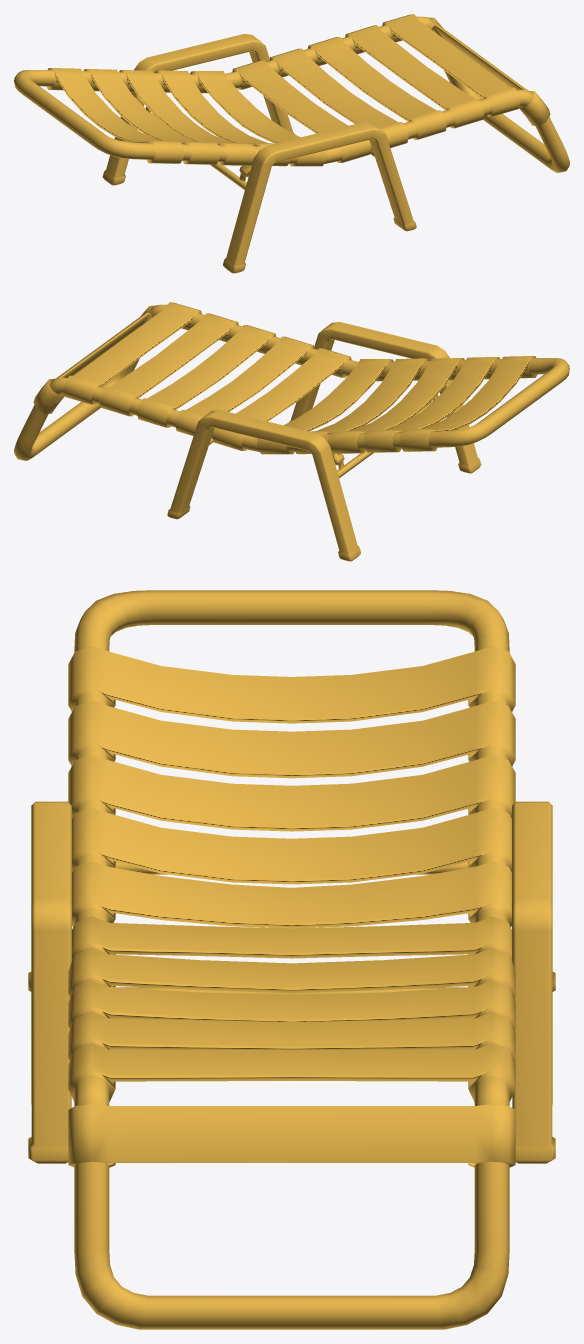
File: beach-bed.glb
3 views of the same model, one above another, from view 1: azimuth 30°, elevation 25°; view 2: azimuth 150°, elevation 25°; view 3: azimuth 270°, elevation 25° (orthographic). The views are drawn at different scales.
Parts seen in each view (by area): view 1: FtrBeachbed_node1; view 2: FtrBeachbed_node1; view 3: FtrBeachbed_node1.
Part boxes in pixels (left/top/right/bottom): FtrBeachbed_node1: left=14, top=14, right=569, bottom=273; FtrBeachbed_node1: left=14, top=302, right=569, bottom=561; FtrBeachbed_node1: left=28, top=590, right=555, bottom=1329.
Bounding box in the file's own units: 1.95 × 0.5829 × 0.9541.
